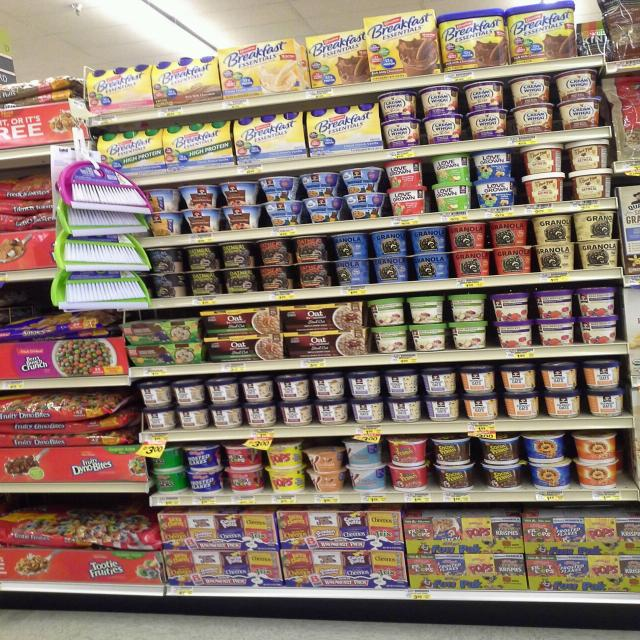unorganised: (303, 32, 368, 89), (447, 291, 486, 322), (407, 293, 443, 323)
